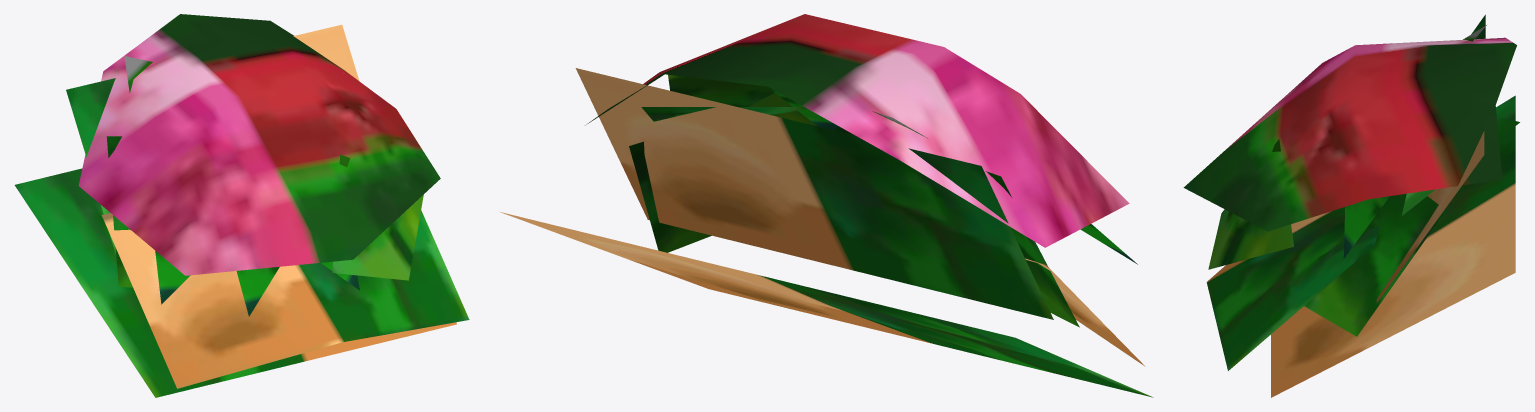
The model's file is fg_bushD_2_s.dae.
3 views of the same model, side by side, from view 1: azimuth 30°, elevation 25°; view 2: azimuth 150°, elevation 25°; view 3: azimuth 270°, elevation 25° (orthographic). The views are drawn at different scales.
Parts seen in each view (by area): view 1: fg_bushD_2_s; view 2: fg_bushD_2_s; view 3: fg_bushD_2_s.
Boxes of the visible parts, bbox=[...] form: fg_bushD_2_s: bbox=[14, 14, 469, 397]; fg_bushD_2_s: bbox=[500, 14, 1153, 397]; fg_bushD_2_s: bbox=[1183, 14, 1519, 397].
Bounding box in the file's own units: 47.83 × 34.27 × 38.41.
1 material, 1 textured.
